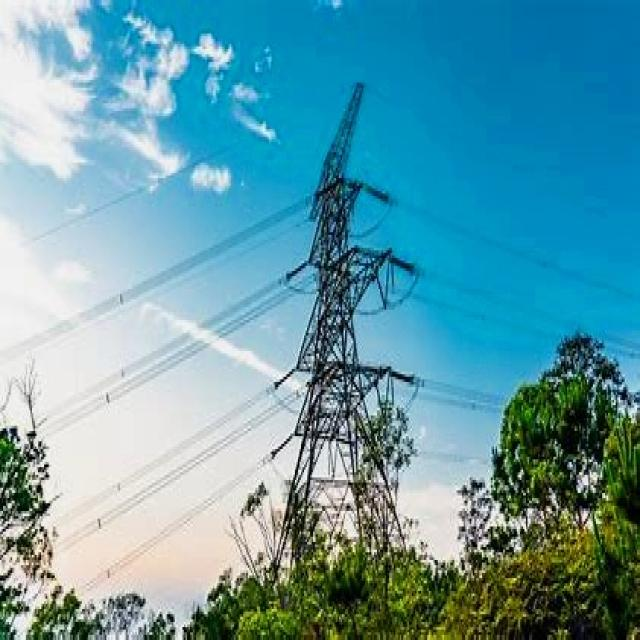utility poles: (471, 294, 606, 495), (318, 373, 424, 542)
